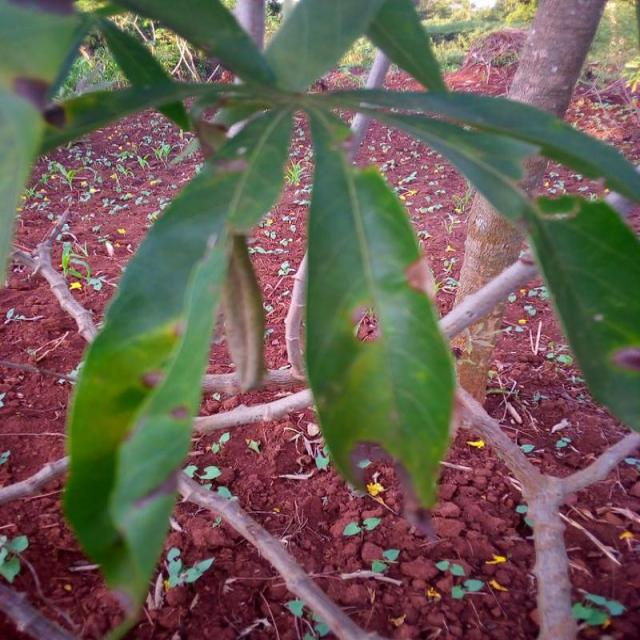cassava leaf: (302, 122, 457, 532)
